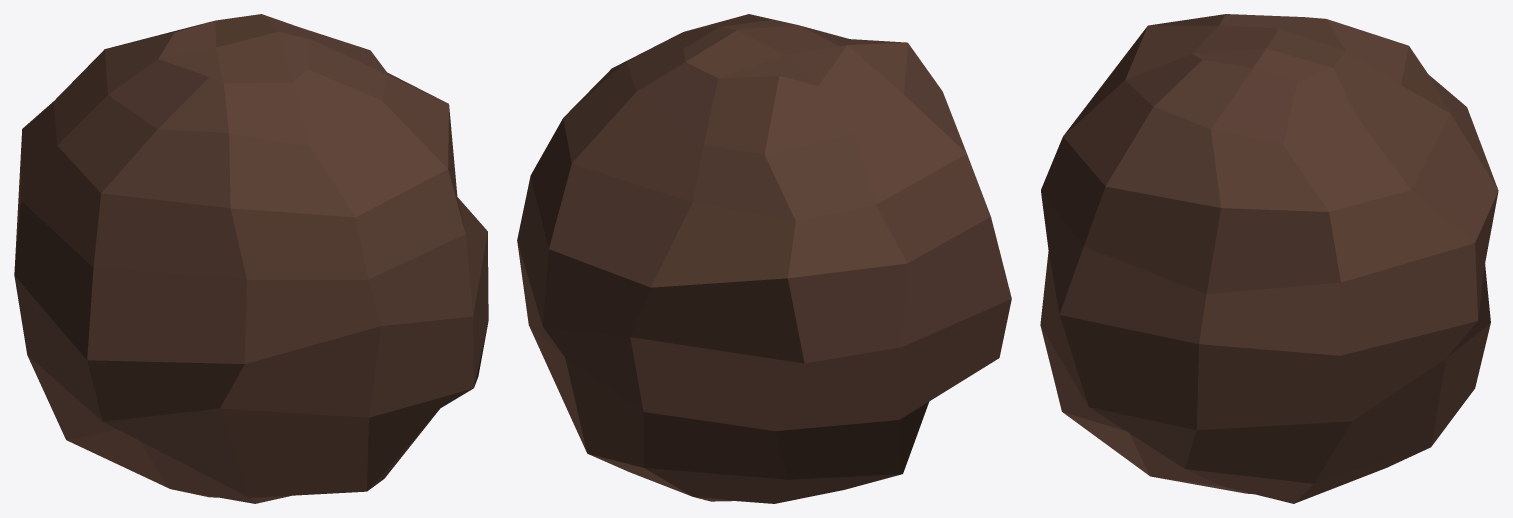
Rendered from Pedra grande.fbx.
The picture shows the model from 3 angles, left to right: view 1: azimuth 30°, elevation 25°; view 2: azimuth 150°, elevation 25°; view 3: azimuth 270°, elevation 25°; orthographic projection. The views are drawn at different scales.
Visible parts, largest first — view 1: Rolling Stone; view 2: Rolling Stone; view 3: Rolling Stone.
Boxes of the visible parts, left/top/right/bottom form: Rolling Stone: left=14, top=14, right=488, bottom=503; Rolling Stone: left=517, top=14, right=1011, bottom=503; Rolling Stone: left=1040, top=14, right=1498, bottom=503.
Bounding box in the file's own units: 194 × 202 × 190.
